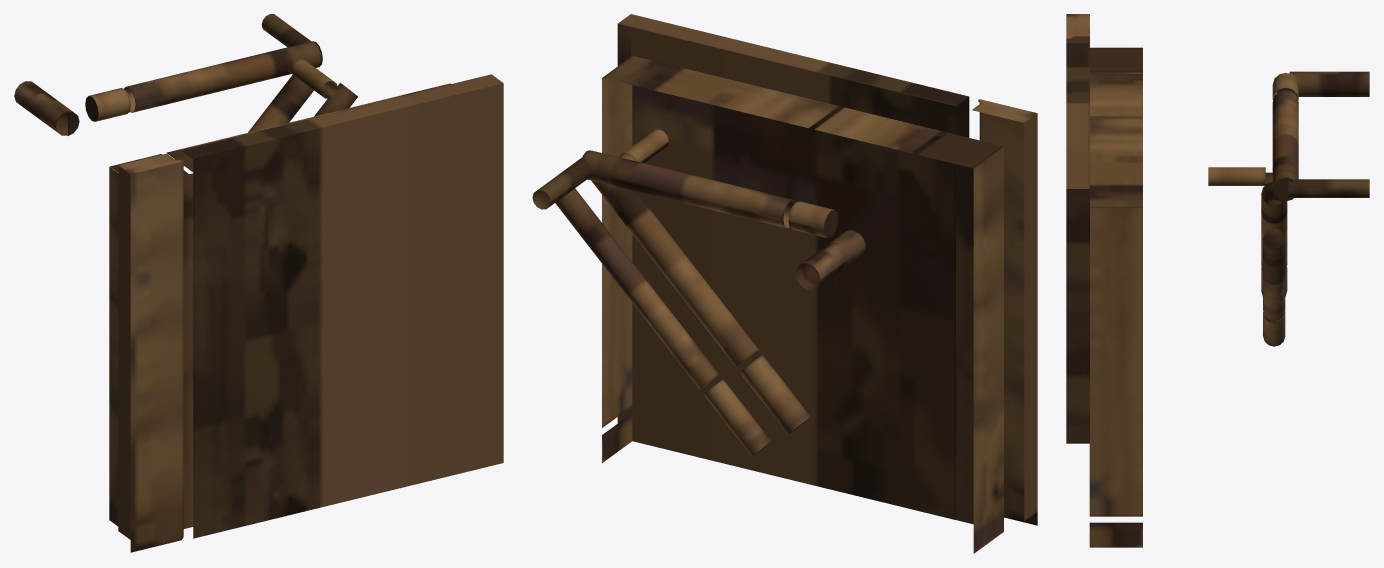
Rendered from section-3.obj.
3 renders of one model, left to right at view 1: azimuth 30°, elevation 25°; view 2: azimuth 150°, elevation 25°; view 3: azimuth 270°, elevation 25°, orthographic. The views are drawn at different scales.
Size of the model in its own units: 0.9665 by 0.94 by 0.708.
